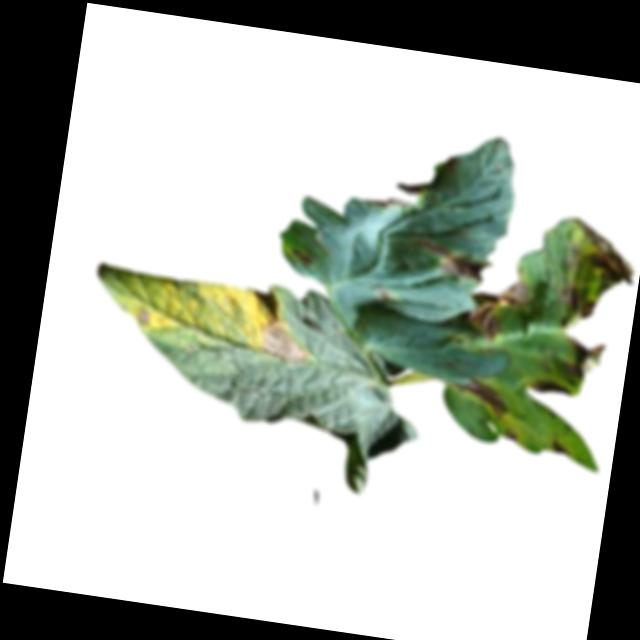Early_blight: (566, 214, 640, 297), (467, 274, 533, 348), (414, 237, 491, 284), (255, 320, 310, 368), (455, 379, 512, 419), (550, 282, 597, 326), (565, 338, 607, 385), (527, 377, 575, 402), (289, 247, 316, 270), (548, 437, 570, 461), (133, 306, 155, 329), (502, 429, 517, 444)
